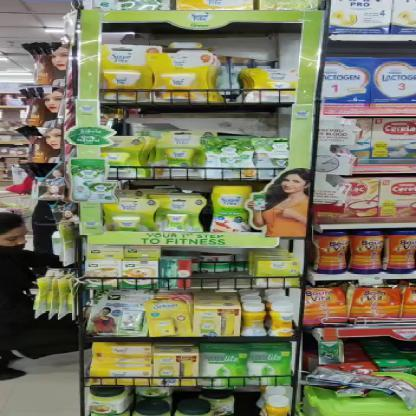SUGAR FREE GOLD 500 PELLET: (140, 51, 218, 106), (102, 44, 164, 104), (244, 68, 298, 102)
SUGAR FREE GRN 300 PELLET: (208, 136, 259, 179), (259, 138, 291, 180)
SUGAR FREE NATURA 500 PELLET: (155, 134, 204, 178), (101, 136, 150, 180), (98, 202, 162, 233), (150, 200, 205, 233)
SUGAR FREE NATURA DIET SUGAR 80GM: (209, 186, 251, 228)
SUGAR FREE NATURA_ POWDER_CONC_100G: (266, 300, 296, 338)
SUGAR FREE_GRN_ POWDER_CONC_100G: (239, 302, 272, 338)
